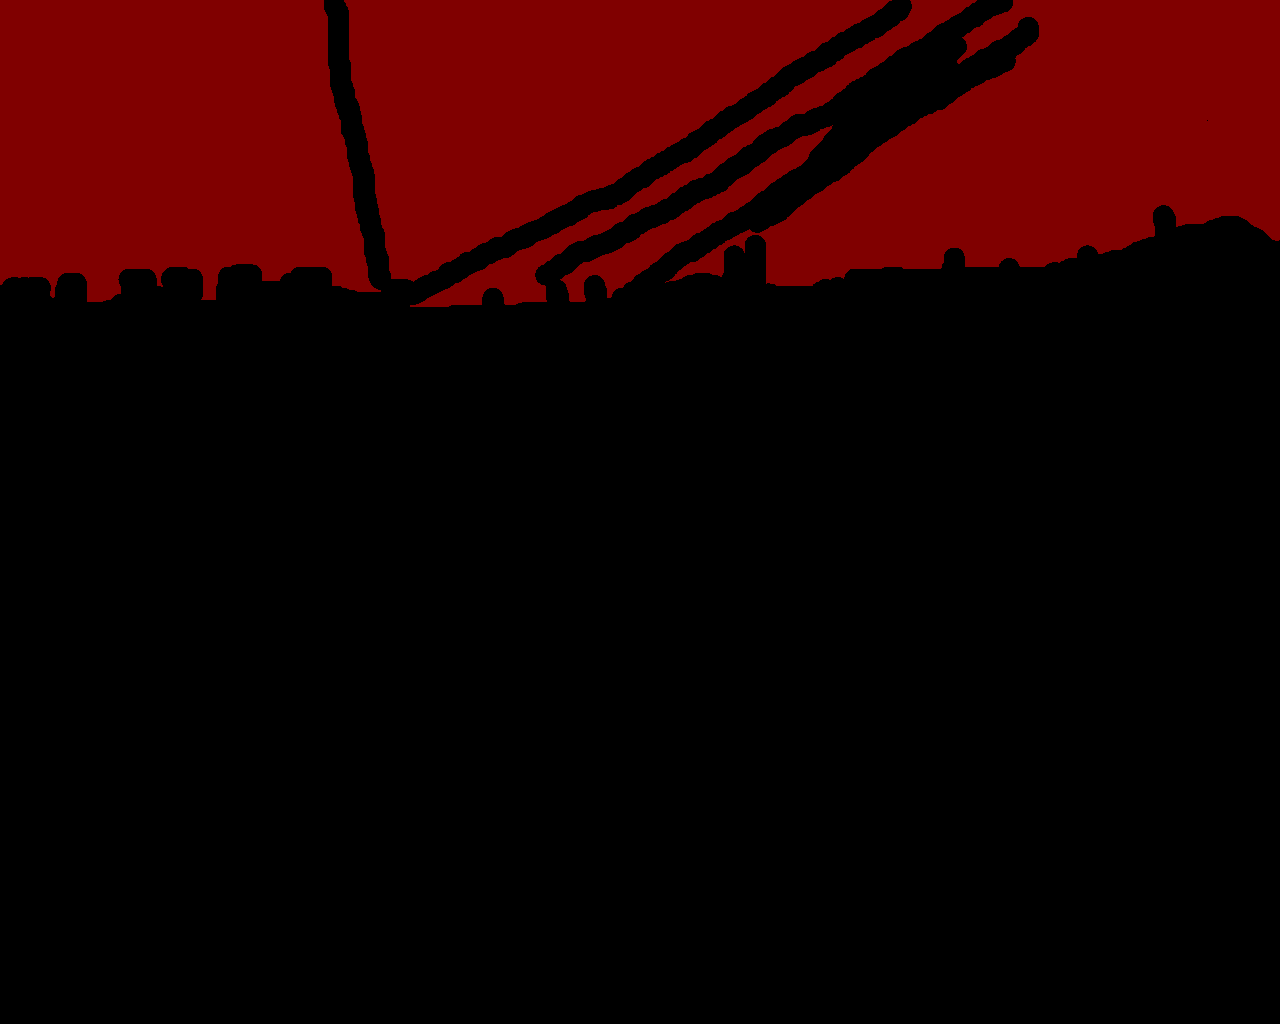Sky: (1, 1, 1279, 307)
